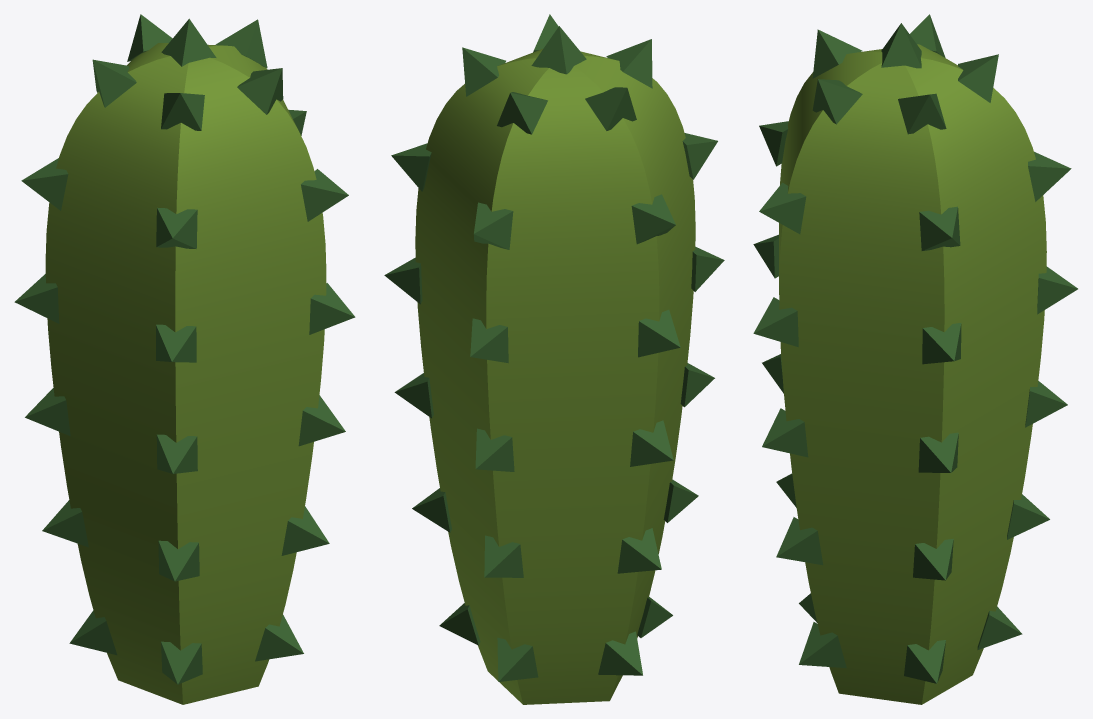
Rendered from Cactus.fbx.
The picture shows the model from 3 angles, left to right: view 1: azimuth 30°, elevation 25°; view 2: azimuth 150°, elevation 25°; view 3: azimuth 270°, elevation 25°; orthographic projection.
Parts seen in each view (by area): view 1: Sphere; view 2: Sphere; view 3: Sphere.
Boxes of the visible parts, bbox=[...] form: Sphere: bbox=[14, 14, 355, 704]; Sphere: bbox=[384, 14, 724, 704]; Sphere: bbox=[753, 14, 1077, 704].
Bounding box in the file's own units: 0.5868 × 1.23 × 0.5581.
